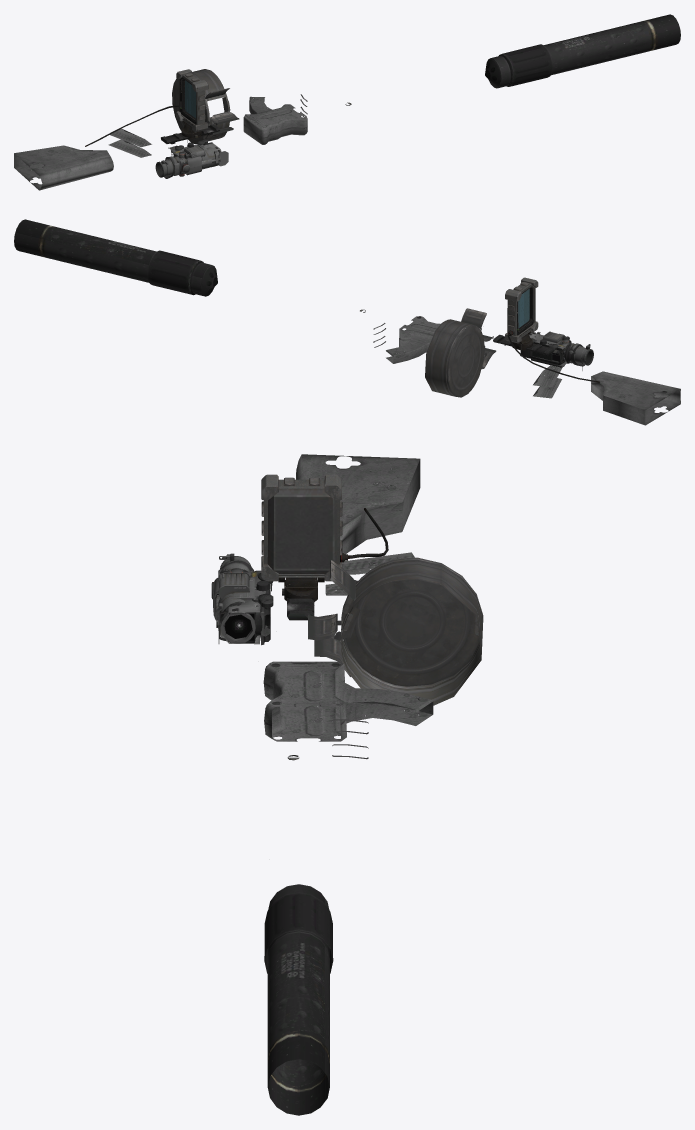
Rendered from viewmodel_rpd_desert_LOD0.obj.
3 renders of one model, top to bottom at view 1: azimuth 30°, elevation 25°; view 2: azimuth 150°, elevation 25°; view 3: azimuth 270°, elevation 25°, orthographic. The views are drawn at different scales.
Visible parts, largest first — view 1: mtl_weapon_rpd_desert, mtl_weapon_suppressor_b, mtl_weapon_motion_tracker_desert, mtl_weapon_acog_2_desert, mtl_weapon_thermal_sight_2, mtl_weapon_eotech_2_desert, mtl_motion_tracker_screen, mtl_weapon_rpd_foregrip_desert; view 2: mtl_weapon_rpd_desert, mtl_weapon_suppressor_b, mtl_weapon_motion_tracker_desert, mtl_weapon_rpd_foregrip_desert, mtl_weapon_thermal_sight_2, mtl_weapon_acog_2_desert, mtl_weapon_eotech_2_desert, mtl_motion_tracker_screen; view 3: mtl_weapon_rpd_desert, mtl_weapon_suppressor_b, mtl_weapon_motion_tracker_desert, mtl_weapon_rpd_foregrip_desert, mtl_weapon_thermal_sight_2, mtl_weapon_acog_2_desert.
Part boxes in pixels (x1,y1,x2,y2): mtl_weapon_rpd_desert: [14, 69, 351, 190]; mtl_weapon_suppressor_b: [485, 14, 680, 88]; mtl_weapon_motion_tracker_desert: [85, 69, 219, 146]; mtl_weapon_acog_2_desert: [155, 140, 221, 177]; mtl_weapon_thermal_sight_2: [164, 142, 228, 178]; mtl_weapon_eotech_2_desert: [171, 144, 203, 175]; mtl_motion_tracker_screen: [185, 80, 195, 118]; mtl_weapon_rpd_foregrip_desert: [249, 96, 271, 126]; mtl_weapon_rpd_desert: [360, 308, 680, 425]; mtl_weapon_suppressor_b: [14, 219, 217, 296]; mtl_weapon_motion_tracker_desert: [493, 277, 599, 382]; mtl_weapon_rpd_foregrip_desert: [386, 333, 431, 363]; mtl_weapon_thermal_sight_2: [529, 331, 585, 366]; mtl_weapon_acog_2_desert: [531, 332, 593, 365]; mtl_weapon_eotech_2_desert: [529, 339, 571, 367]; mtl_motion_tracker_screen: [518, 289, 529, 327]; mtl_weapon_rpd_desert: [263, 454, 483, 760]; mtl_weapon_suppressor_b: [264, 884, 333, 1115]; mtl_weapon_motion_tracker_desert: [261, 474, 388, 620]; mtl_weapon_rpd_foregrip_desert: [335, 674, 433, 727]; mtl_weapon_thermal_sight_2: [214, 560, 269, 643]; mtl_weapon_acog_2_desert: [211, 553, 273, 638].
Bounding box in the file's own units: 146 × 20.59 × 27.11.
